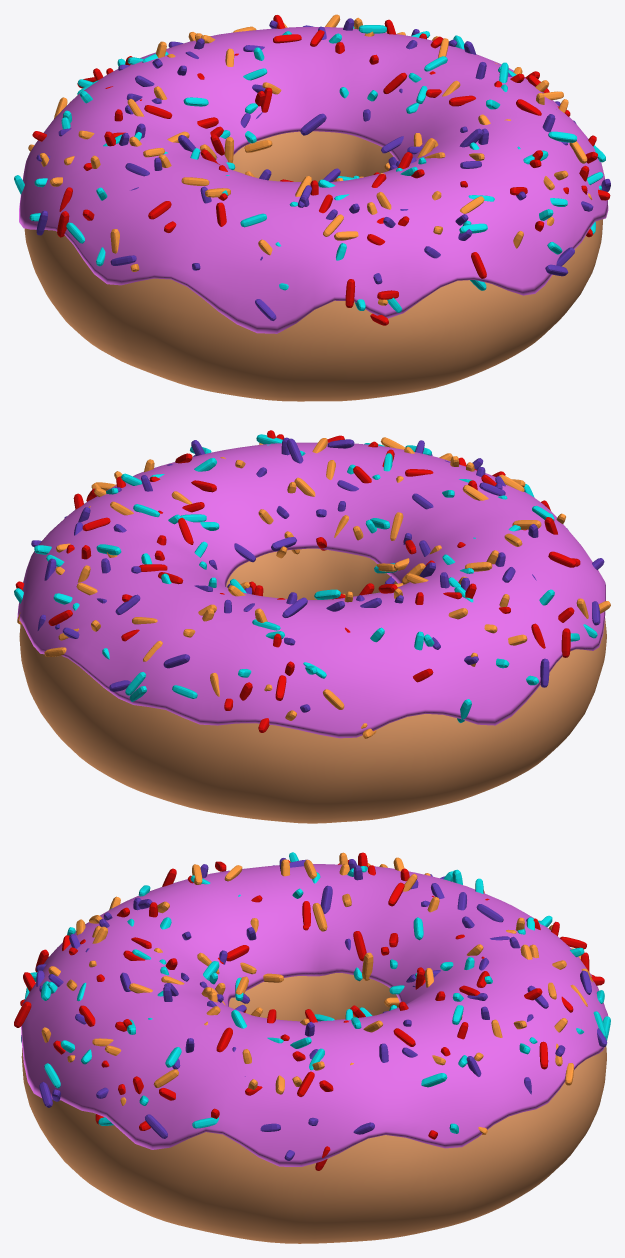
Rendered from donut.fbx.
The picture shows the model from 3 angles, top to bottom: view 1: azimuth 30°, elevation 25°; view 2: azimuth 150°, elevation 25°; view 3: azimuth 270°, elevation 25°; orthographic projection.
Parts seen in each view (by area): view 1: Torus.003, donut; view 2: Torus.003, donut; view 3: Torus.003, donut.
Part boxes in pixels (box(x1,y1,x2,y2)): Torus.003: box(19, 27, 608, 333); donut: box(24, 131, 603, 401); Torus.003: box(17, 442, 605, 738); donut: box(19, 548, 606, 823); Torus.003: box(21, 864, 608, 1166); donut: box(21, 973, 606, 1243).
Size of the model in its own units: 321 by 129 by 319.
